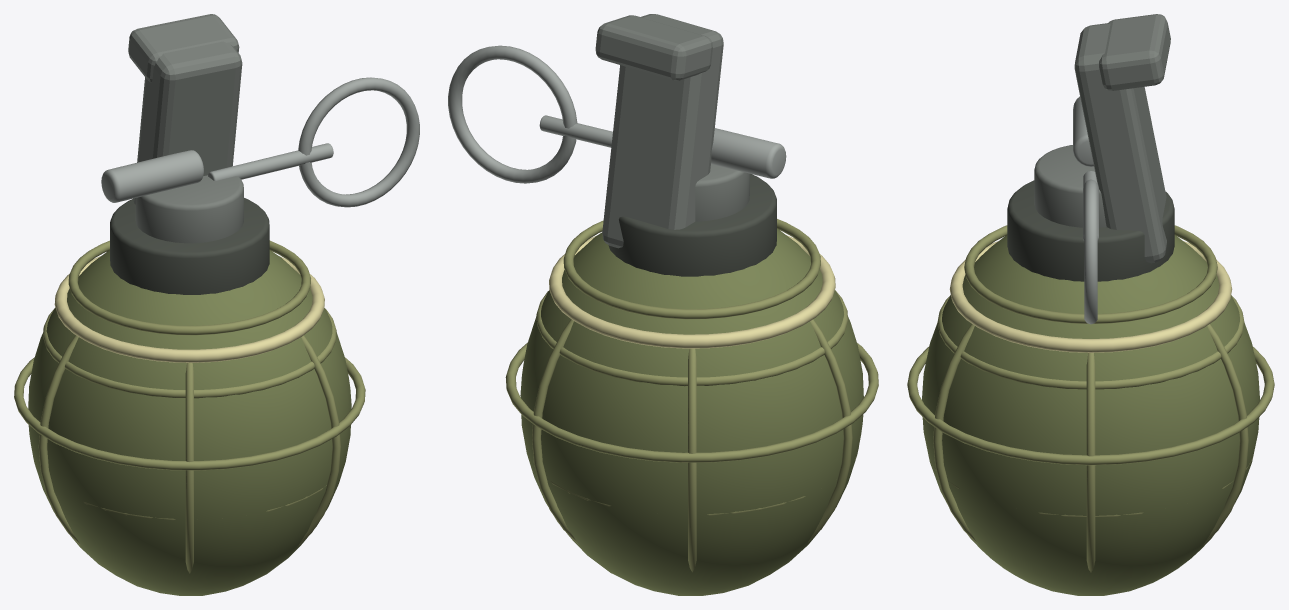
The model's file is frag-grenade.glb.
The picture shows the model from 3 angles, left to right: view 1: azimuth 30°, elevation 25°; view 2: azimuth 150°, elevation 25°; view 3: azimuth 270°, elevation 25°; orthographic projection. The views are drawn at different scales.
Visible parts, largest first — view 1: Frag_Body, Frag_SafetyLever, Frag_FuseCollar, Frag_FuseHead, Frag_MarkingBand, Frag_PullRing, Frag_BodyRing_3, Frag_BodyRing_5, Frag_StrikerPivot, Frag_LeverTip, Frag_BodyRing_4, Frag_PinStem (+3 smaller); view 2: Frag_Body, Frag_SafetyLever, Frag_FuseCollar, Frag_LeverTip, Frag_MarkingBand, Frag_PullRing, Frag_BodyRing_3, Frag_BodyRing_5, Frag_BodyRing_4, Frag_StrikerPivot, Frag_FuseHead, Frag_BodyMeridian_1 (+3 smaller); view 3: Frag_Body, Frag_SafetyLever, Frag_FuseCollar, Frag_MarkingBand, Frag_BodyRing_3, Frag_LeverTip, Frag_BodyRing_5, Frag_FuseHead, Frag_BodyRing_4, Frag_BodyMeridian_1, Frag_PullRing, Frag_BodyMeridian_2 (+2 smaller).
Boxes of the visible parts, left/top/right/bottom form: Frag_Body: left=28, top=250, right=351, bottom=595; Frag_SafetyLever: left=133, top=41, right=242, bottom=204; Frag_FuseCollar: left=110, top=198, right=269, bottom=294; Frag_FuseHead: left=135, top=175, right=243, bottom=243; Frag_MarkingBand: left=54, top=256, right=324, bottom=362; Frag_PullRing: left=298, top=77, right=419, bottom=207; Frag_BodyRing_3: left=14, top=357, right=365, bottom=470; Frag_BodyRing_5: left=68, top=240, right=310, bottom=335; Frag_StrikerPivot: left=101, top=150, right=203, bottom=202; Frag_LeverTip: left=128, top=14, right=239, bottom=82; Frag_BodyRing_4: left=43, top=308, right=336, bottom=398; Frag_PinStem: left=208, top=143, right=333, bottom=180; Frag_Body: left=520, top=228, right=863, bottom=595; Frag_SafetyLever: left=602, top=14, right=723, bottom=248; Frag_FuseCollar: left=608, top=173, right=776, bottom=276; Frag_LeverTip: left=595, top=15, right=712, bottom=80; Frag_MarkingBand: left=549, top=235, right=835, bottom=348; Frag_PullRing: left=448, top=45, right=577, bottom=183; Frag_BodyRing_3: left=505, top=342, right=878, bottom=462; Frag_BodyRing_5: left=563, top=219, right=820, bottom=319; Frag_BodyRing_4: left=536, top=290, right=848, bottom=386; Frag_StrikerPivot: left=711, top=128, right=786, bottom=178; Frag_FuseHead: left=695, top=164, right=749, bottom=221; Frag_BodyMeridian_1: left=808, top=319, right=852, bottom=542; Frag_Body: left=922, top=235, right=1259, bottom=595; Frag_SafetyLever: left=1074, top=23, right=1166, bottom=263; Frag_FuseCollar: left=1007, top=180, right=1174, bottom=281; Frag_MarkingBand: left=949, top=241, right=1232, bottom=352; Frag_BodyRing_3: left=907, top=346, right=1274, bottom=465; Frag_LeverTip: left=1099, top=14, right=1170, bottom=90; Frag_BodyRing_5: left=964, top=225, right=1217, bottom=323; Frag_FuseHead: left=1034, top=145, right=1106, bottom=227; Frag_BodyRing_4: left=937, top=295, right=1244, bottom=389; Frag_BodyMeridian_1: left=1086, top=353, right=1095, bottom=572; Frag_PullRing: left=1084, top=179, right=1097, bottom=324; Frag_BodyMeridian_2: left=1203, top=324, right=1248, bottom=544.
Bounding box in the file's own units: 0.4625 × 0.6194 × 0.3694.
